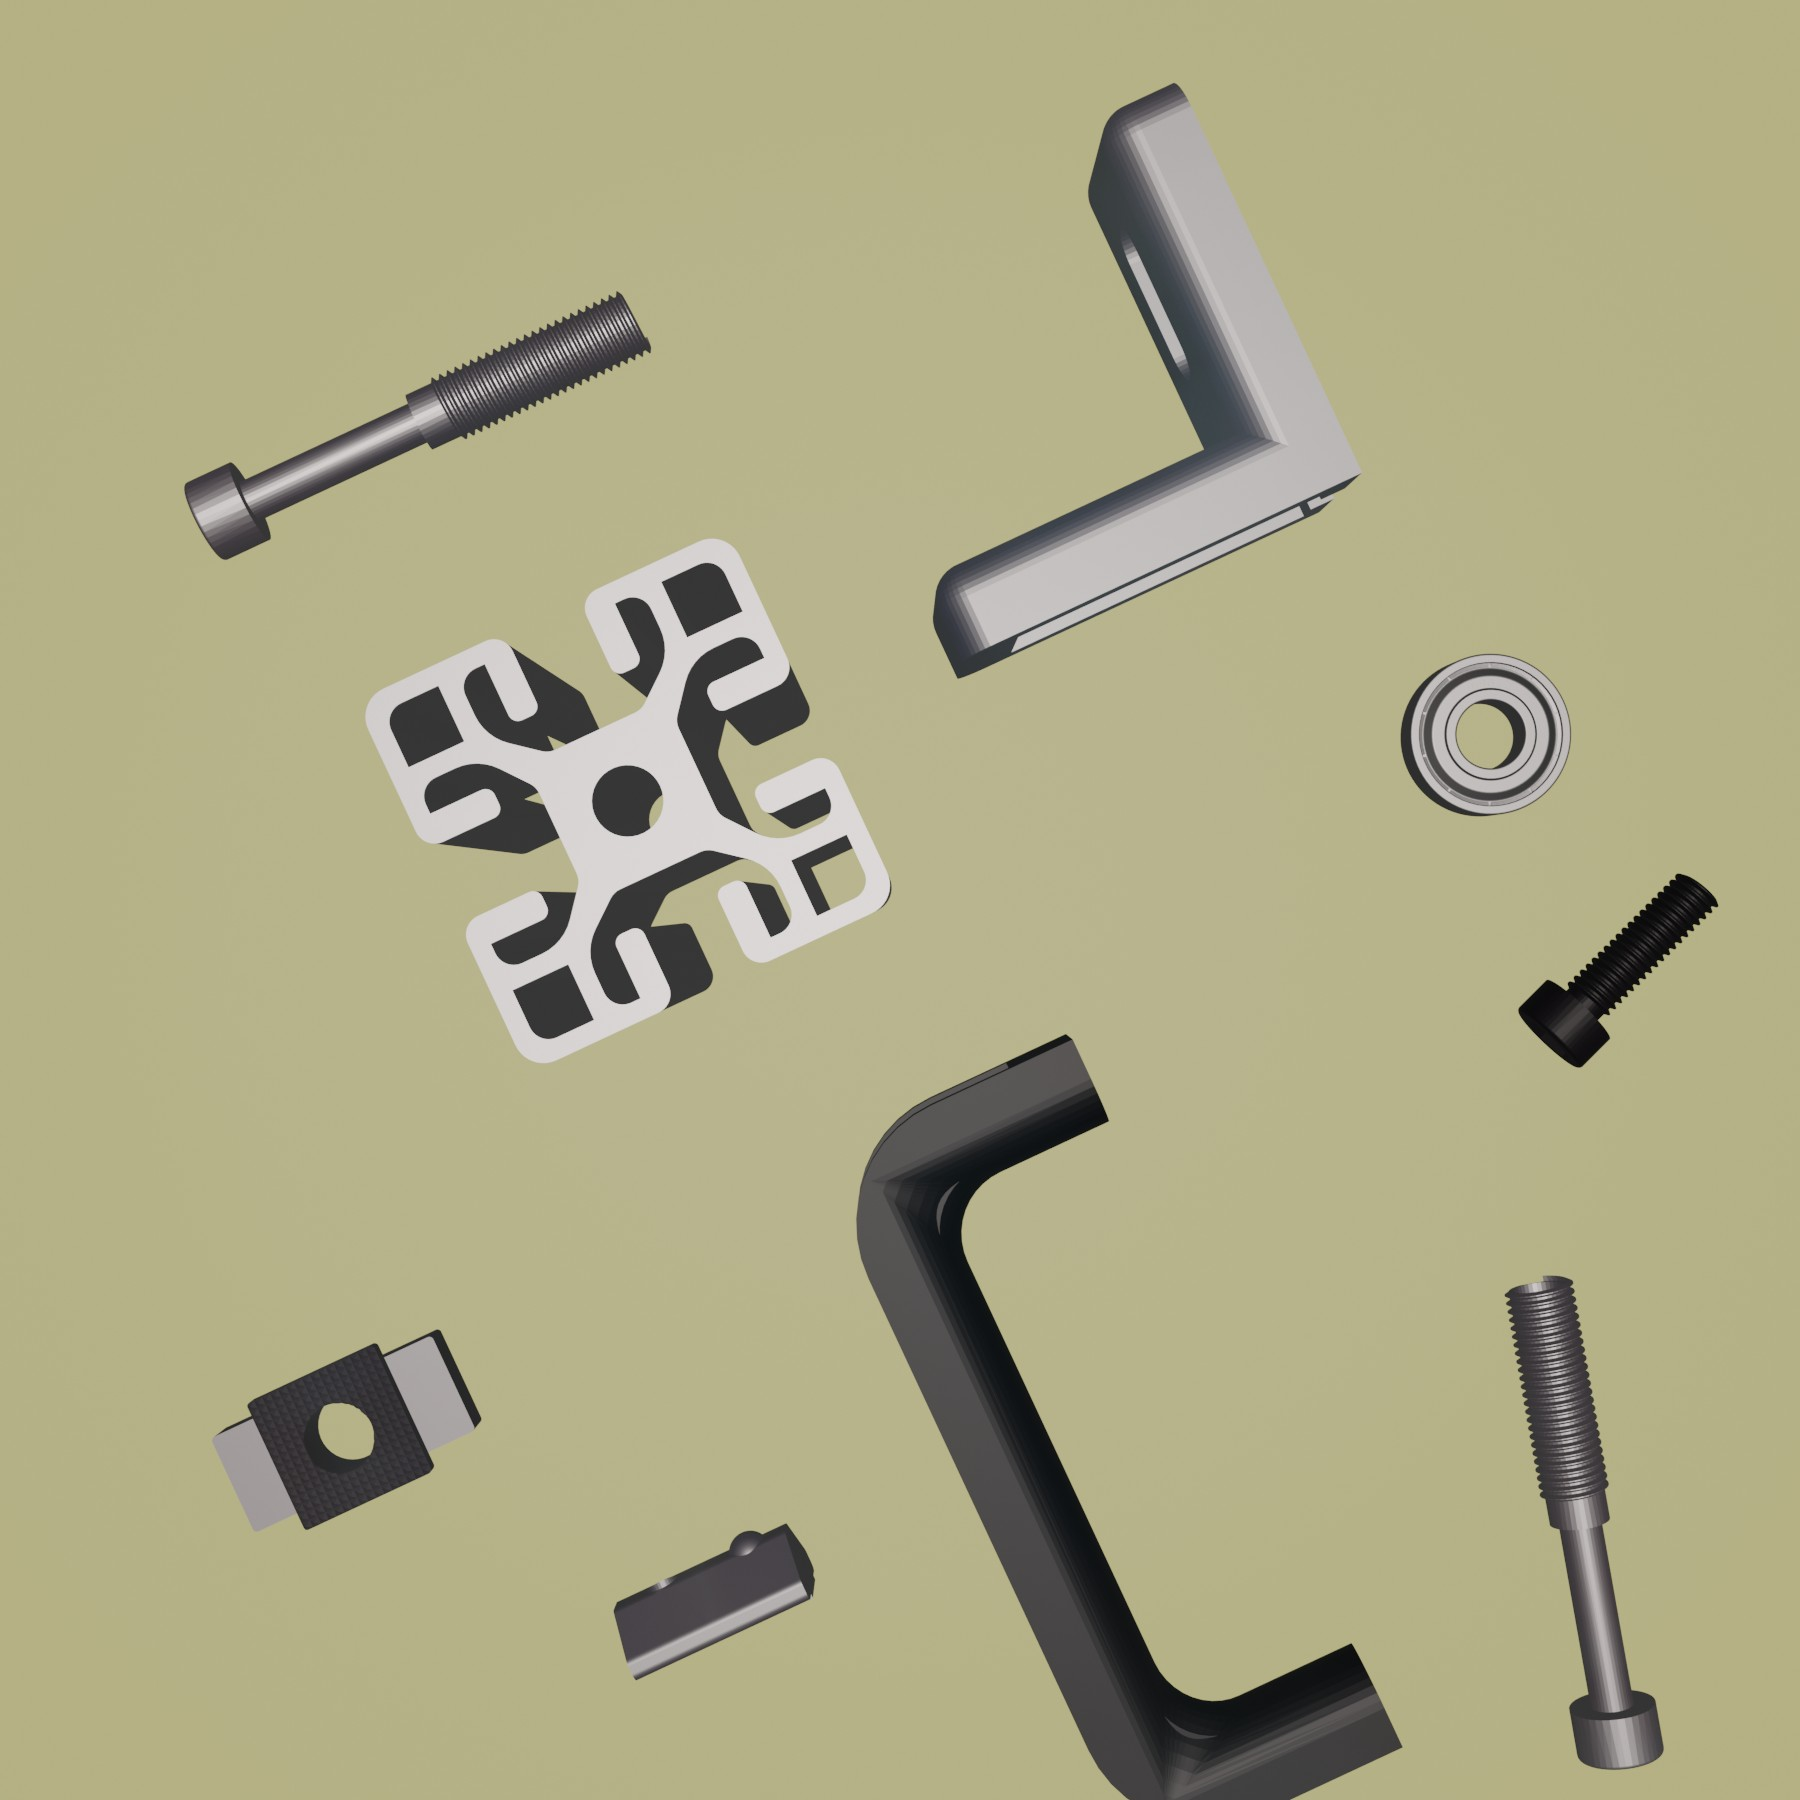Aluminium Extension: (363, 536, 893, 1070)
Ball Bearing: (1398, 649, 1573, 819)
Multiwinkel: (931, 81, 1370, 681)
Pull Handle: (854, 1035, 1408, 1800)
Shoulder Socket Head Cap Screw: (181, 288, 654, 562), (1502, 1274, 1665, 1772)
Socket Head Cap Screw: (1516, 869, 1723, 1070)
T Nut Square: (204, 1324, 483, 1538)
T Spring Nut: (612, 1516, 818, 1686)
